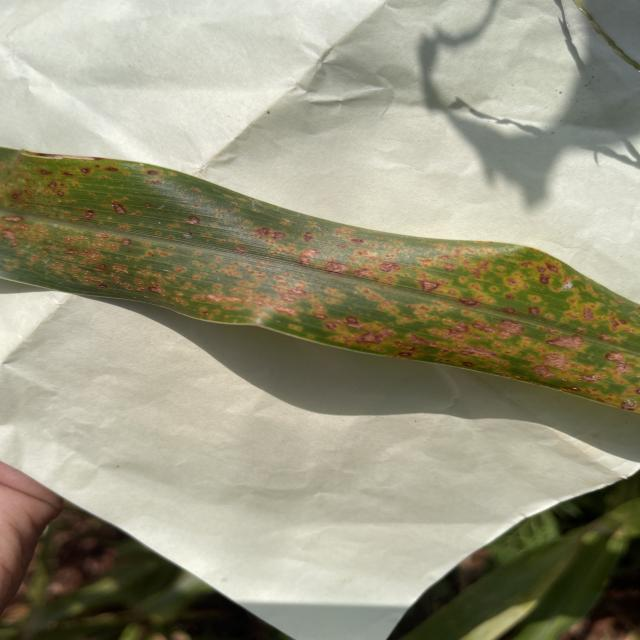millet_rust: (2, 145, 640, 418)
